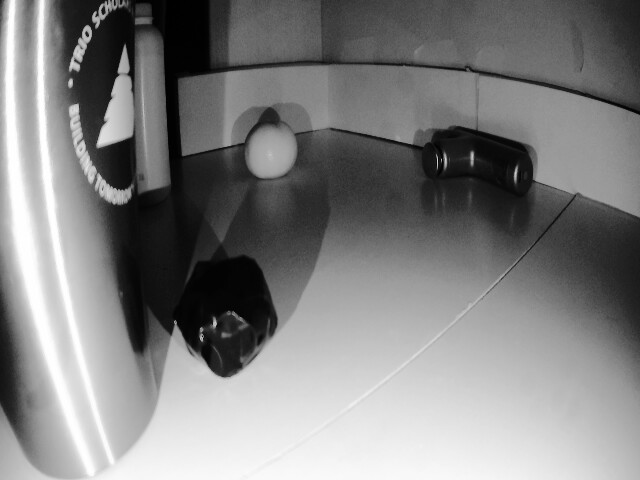black: (170, 246, 295, 377)
